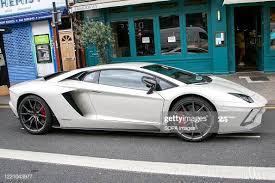Lamborghini: (10, 67, 264, 138)
